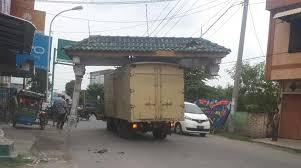truck: (102, 60, 189, 142)
